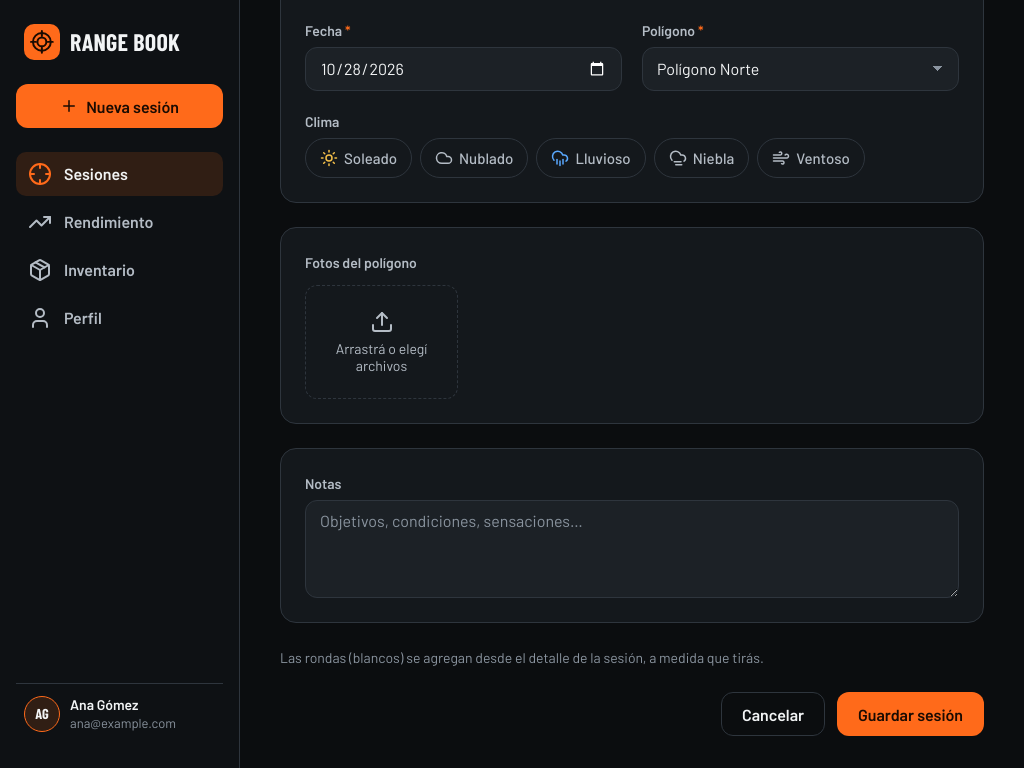
SessionFormScreen · nueva › al guardar con errores, el foco va al primer campo inválido
(page scrolled)
What coordinates should you click on to do the following:
click the button "Guardar sesión"
I would click on:
 (910, 714)
Its box is [837,692,984,736].
(page scrolled)
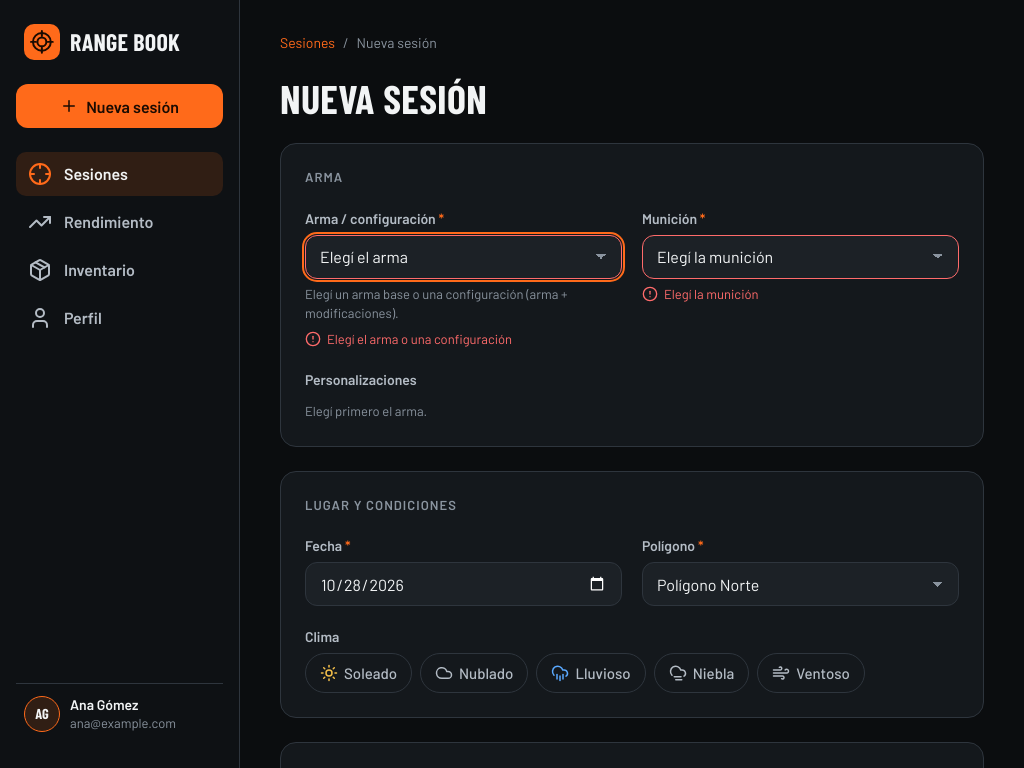
Check: the messages read "Elegí el arma o una configuración", "Elegí la munición", in this order, box [305,330,512,347]; [642,286,758,302]
